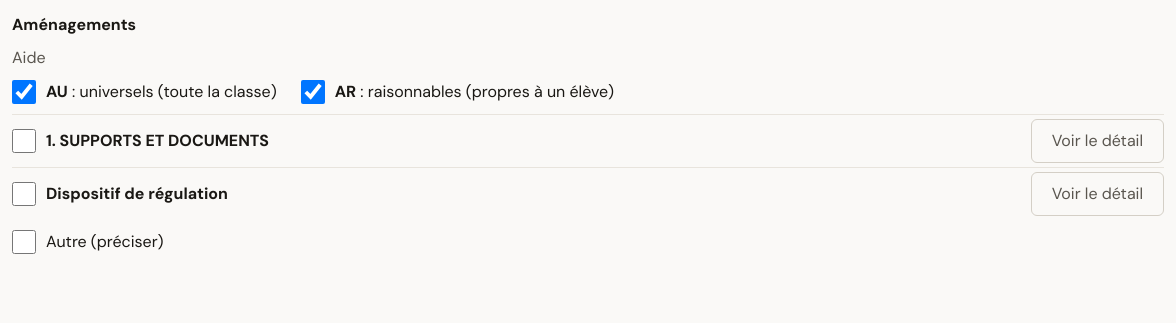
Test case: SelecteurAmenagements › masquer les AR cache leurs détails sans changer la sélection
The image size is (1176, 323).
Click the checkbox labelled "AR : raisonnables (propres à un élève)" at (313, 92), box [301, 80, 325, 104]
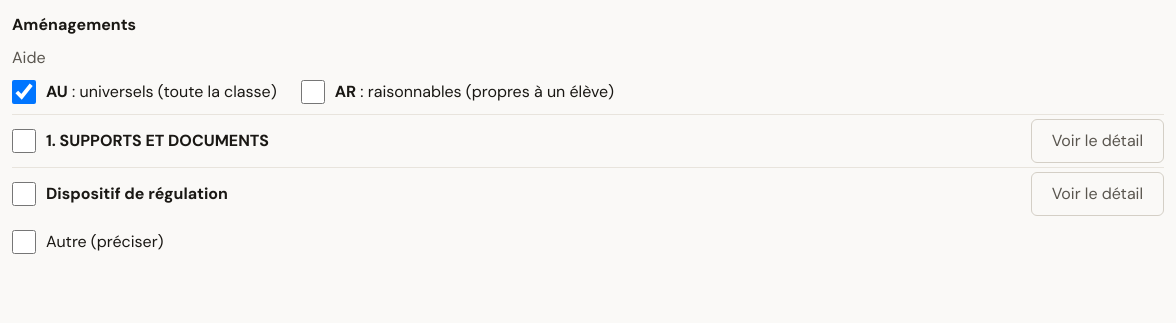
Click the button "Voir le détail" in the row of "1. SUPPORTS ET DOCUMENTS" at (1097, 141), box [1031, 119, 1164, 163]
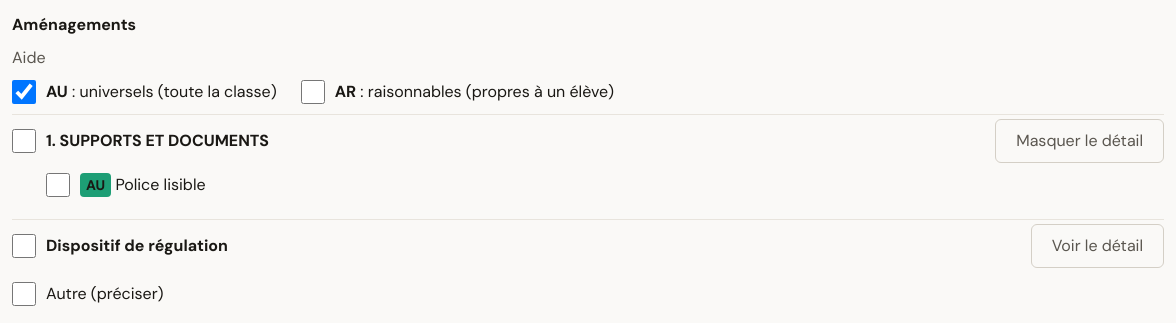
Check: the text "Police lisible" is shown, box [115, 174, 206, 195]
